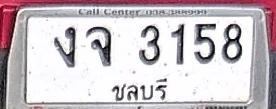1: (170, 22, 184, 64)
3: (138, 24, 160, 64)
5: (194, 22, 216, 63)
8: (221, 22, 242, 62)
A07: (53, 25, 76, 67)
A08: (86, 26, 111, 66)
CBI: (107, 75, 172, 106)
